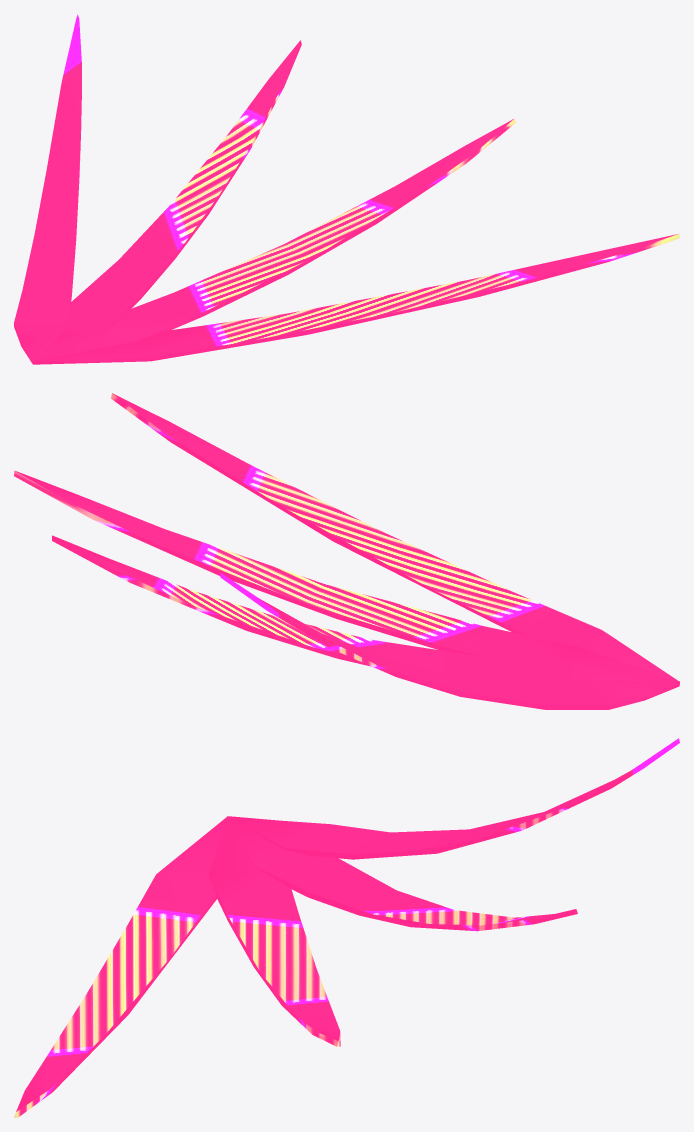
Rendered from WING_R.glb.
The picture shows the model from 3 angles, top to bottom: view 1: azimuth 30°, elevation 25°; view 2: azimuth 150°, elevation 25°; view 3: azimuth 270°, elevation 25°; orthographic projection. The views are drawn at different scales.
Parts seen in each view (by area): view 1: WING_R_03_LITE; view 2: WING_R_03_LITE; view 3: WING_R_03_LITE.
Part boxes in pixels (x1,y1,x2,y2): WING_R_03_LITE: (14,14,679,364); WING_R_03_LITE: (14,393,679,709); WING_R_03_LITE: (14,738,679,1117).
Size of the model in its own units: 4.27 by 1.23 by 3.35.
Materials: 1 (1 with a texture image).
